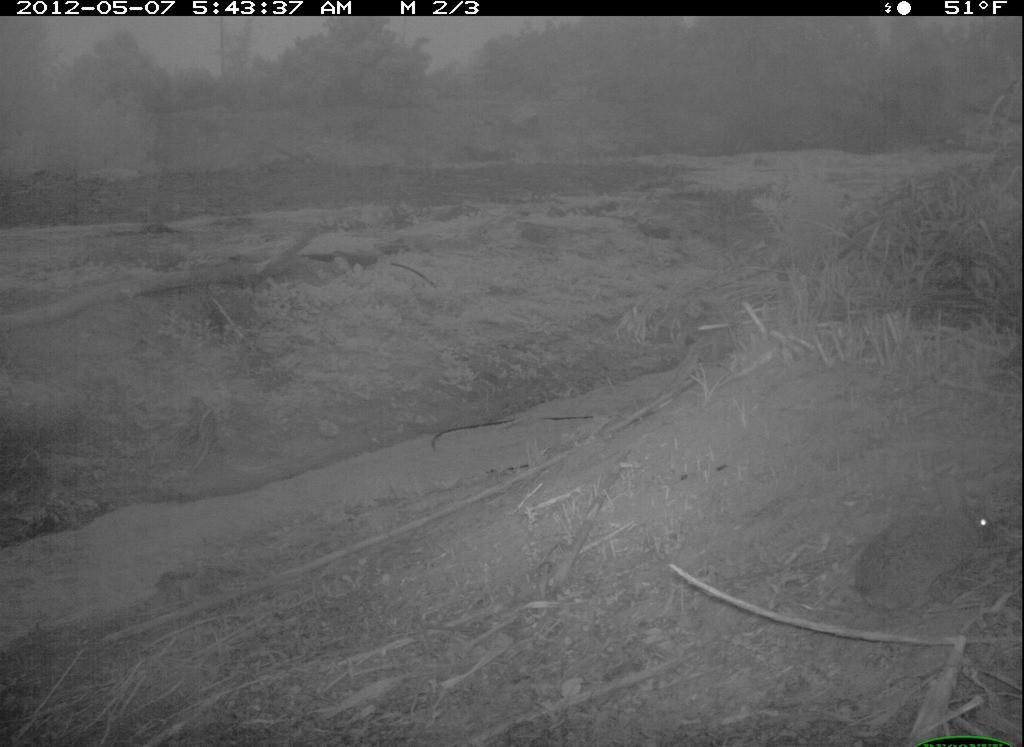rabbit: (847, 470, 1005, 629)
